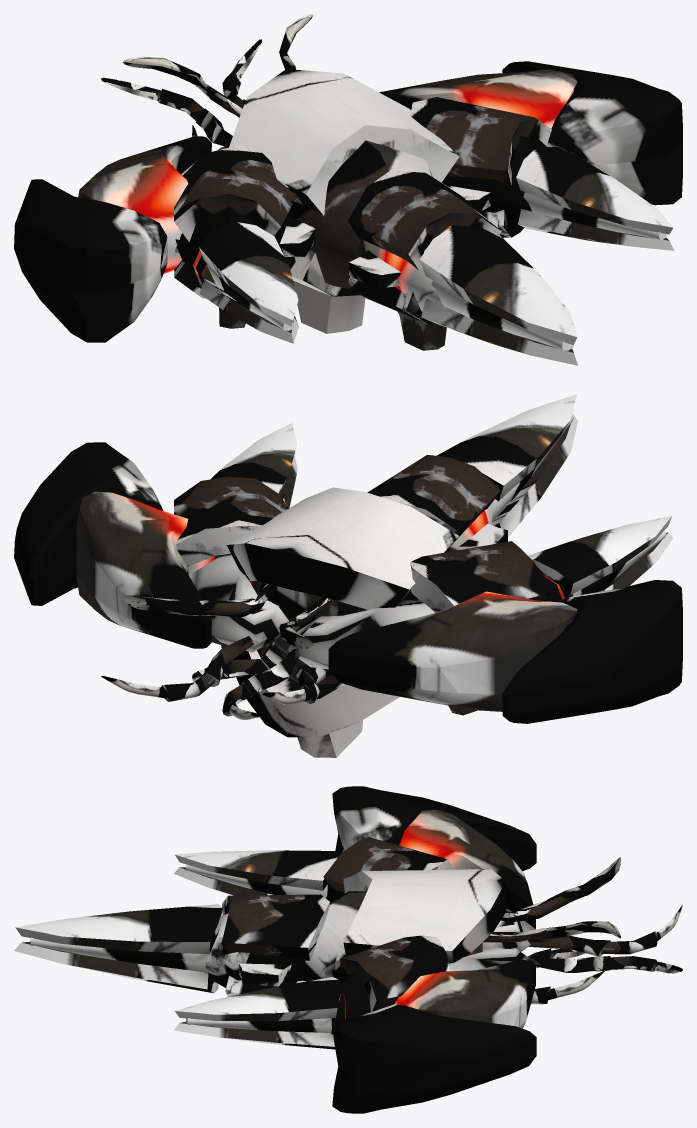
The model's file is Partizan.fbx.
The picture shows the model from 3 angles, top to bottom: view 1: azimuth 30°, elevation 25°; view 2: azimuth 150°, elevation 25°; view 3: azimuth 270°, elevation 25°; orthographic projection. The views are drawn at different scales.
Visible parts, largest first — view 1: 00_Core, 01_Tail, 03_Right, 04_TailLeft, 05_TailRight, 02_Left; view 2: 00_Core, 03_Right, 02_Left, 01_Tail, 05_TailRight, 04_TailLeft; view 3: 00_Core, 02_Left, 01_Tail, 04_TailLeft, 03_Right, 05_TailRight.
Boxes of the visible parts, x1,y1,x2,y2 form: 00_Core: (101, 14, 459, 333); 01_Tail: (346, 170, 577, 365); 03_Right: (14, 136, 211, 342); 04_TailLeft: (410, 97, 674, 250); 05_TailRight: (174, 144, 315, 343); 02_Left: (379, 61, 682, 205); 00_Core: (101, 487, 458, 757); 03_Right: (328, 580, 682, 723); 02_Left: (14, 442, 215, 648); 01_Tail: (367, 394, 577, 552); 05_TailRight: (410, 516, 672, 715); 04_TailLeft: (174, 423, 297, 648); 00_Core: (305, 857, 682, 1004); 02_Left: (332, 959, 536, 1113); 01_Tail: (14, 894, 329, 996); 04_TailLeft: (174, 935, 449, 1049); 03_Right: (332, 786, 536, 928); 05_TailRight: (174, 837, 451, 902).
Size of the model in its own units: 22872 by 8138 by 25616.
Materials: 1 (1 with a texture image).
